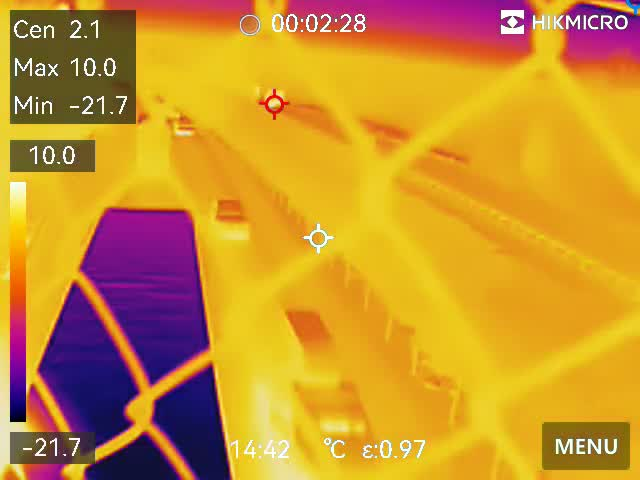heavyTruck: (21, 196, 256, 480)
vehicle: (274, 307, 374, 478), (209, 193, 256, 252), (171, 116, 195, 144)
